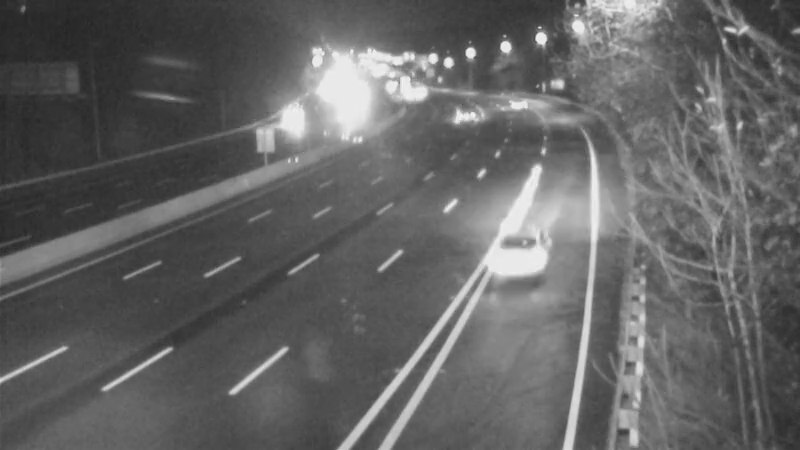vehicle: (465, 222, 545, 302), (483, 80, 533, 130), (433, 94, 483, 144), (267, 94, 317, 144)
